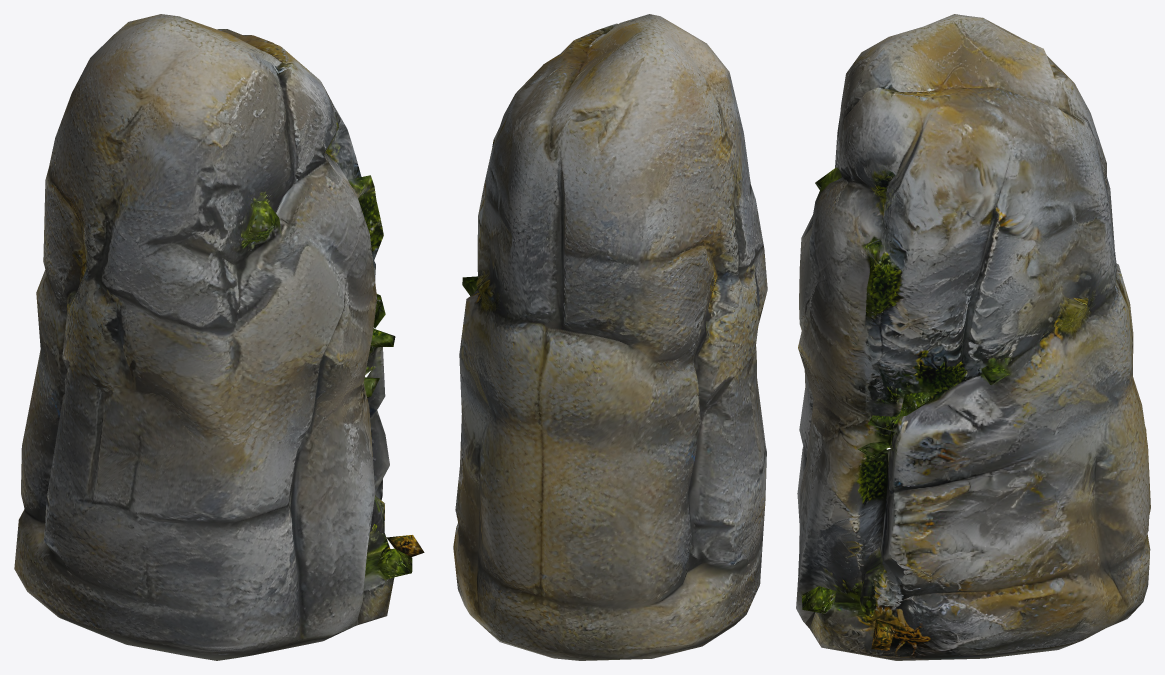
Rendered from rock_b.glb.
3 views of the same model, side by side, from view 1: azimuth 30°, elevation 25°; view 2: azimuth 150°, elevation 25°; view 3: azimuth 270°, elevation 25° (orthographic). The views are drawn at different scales.
Visible parts, largest first — view 1: tripo_node_6926854f-c444-48b4-bb38-c68a6110c96d; view 2: tripo_node_6926854f-c444-48b4-bb38-c68a6110c96d; view 3: tripo_node_6926854f-c444-48b4-bb38-c68a6110c96d.
Part boxes in pixels (<box>): tripo_node_6926854f-c444-48b4-bb38-c68a6110c96d: <box>14,14,424,660</box>; tripo_node_6926854f-c444-48b4-bb38-c68a6110c96d: <box>453,14,767,660</box>; tripo_node_6926854f-c444-48b4-bb38-c68a6110c96d: <box>796,14,1150,660</box>.
Size of the model in its own units: 0.5505 by 1 by 0.5513.
1 material, 1 textured.
